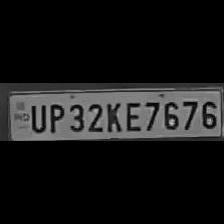2: (84, 100, 104, 132)
3: (65, 100, 84, 132)
6: (197, 98, 219, 130), (160, 98, 178, 130)
7: (179, 97, 197, 130), (141, 98, 158, 132)
E: (122, 98, 142, 132)
K: (102, 100, 122, 132)
P: (46, 100, 64, 134)
U: (27, 101, 45, 133)
